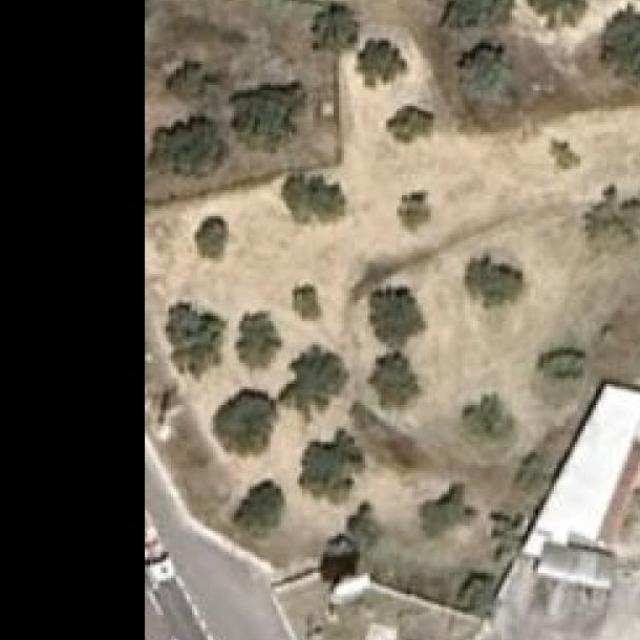Tree: (145, 111, 229, 183), (297, 426, 365, 505), (234, 78, 307, 151), (166, 303, 227, 382), (583, 182, 640, 260), (278, 348, 346, 413), (215, 390, 276, 456), (460, 41, 517, 104), (284, 167, 346, 224), (464, 251, 526, 308), (596, 6, 640, 85), (365, 347, 423, 405), (370, 281, 423, 342), (418, 484, 475, 539), (168, 54, 223, 109), (304, 1, 360, 54), (462, 394, 514, 445), (438, 0, 514, 33), (355, 38, 405, 88), (234, 482, 281, 528), (456, 571, 504, 616), (236, 314, 281, 361), (528, 0, 586, 27), (397, 190, 433, 232), (546, 347, 586, 384), (194, 214, 226, 259), (392, 109, 434, 141), (292, 282, 318, 319), (551, 139, 580, 169)
